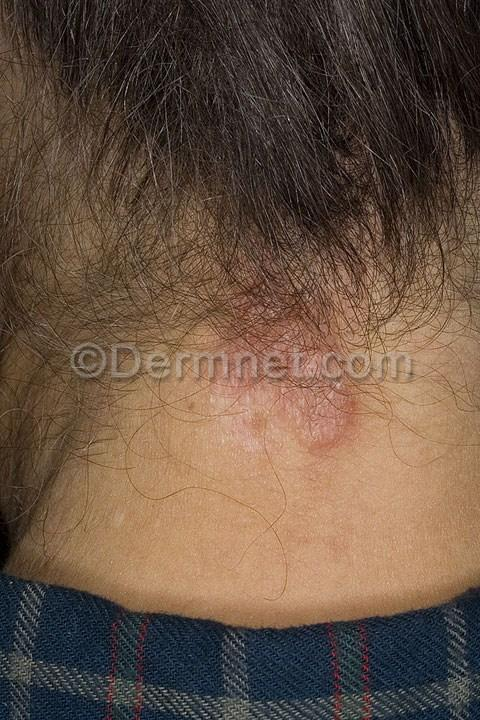Eczema: (188, 258, 388, 349), (201, 387, 367, 494)
